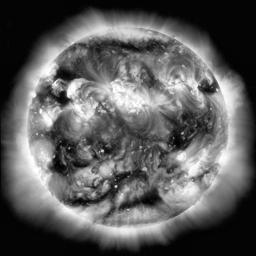solar flares: (106, 81, 156, 117), (161, 180, 201, 200), (190, 148, 211, 179), (71, 102, 97, 125), (33, 141, 55, 164), (63, 80, 84, 103), (37, 107, 61, 127), (157, 74, 179, 93), (187, 75, 200, 100), (172, 151, 183, 162)
sunspots: (92, 40, 164, 55), (125, 194, 159, 207), (65, 144, 87, 162), (46, 90, 72, 105), (54, 70, 83, 82), (200, 76, 218, 93), (54, 155, 70, 173), (191, 118, 208, 134), (172, 127, 184, 149), (71, 197, 103, 205), (116, 172, 149, 179), (97, 145, 117, 152), (183, 115, 189, 122)
